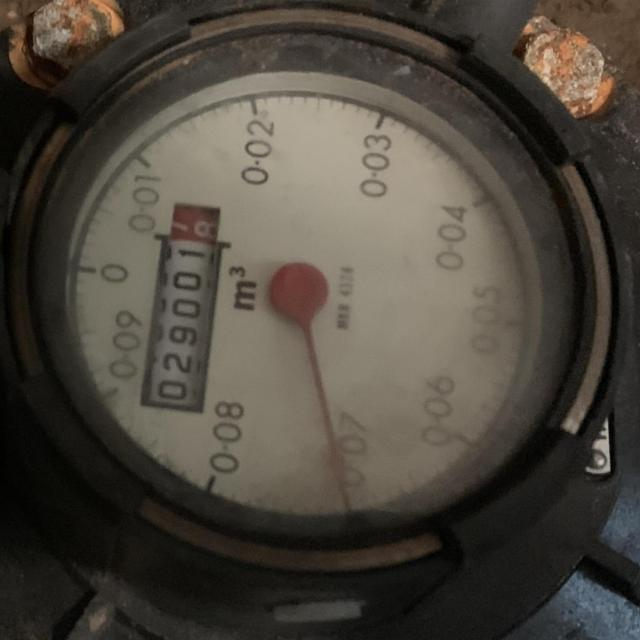gaz_meter: (68, 72, 546, 518)
indication: (140, 201, 227, 415)
